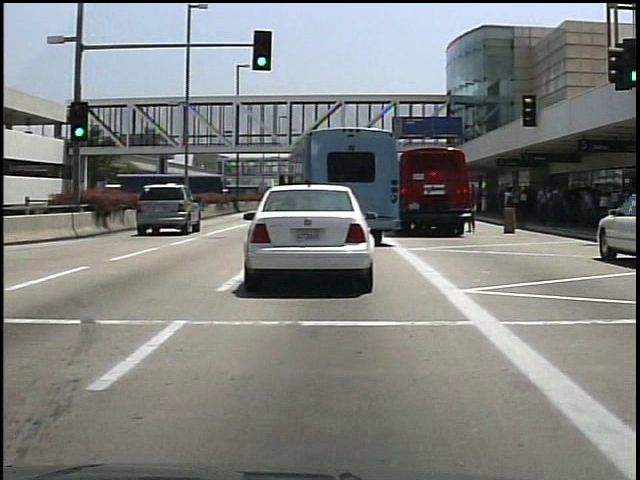person: (471, 186, 484, 236)
